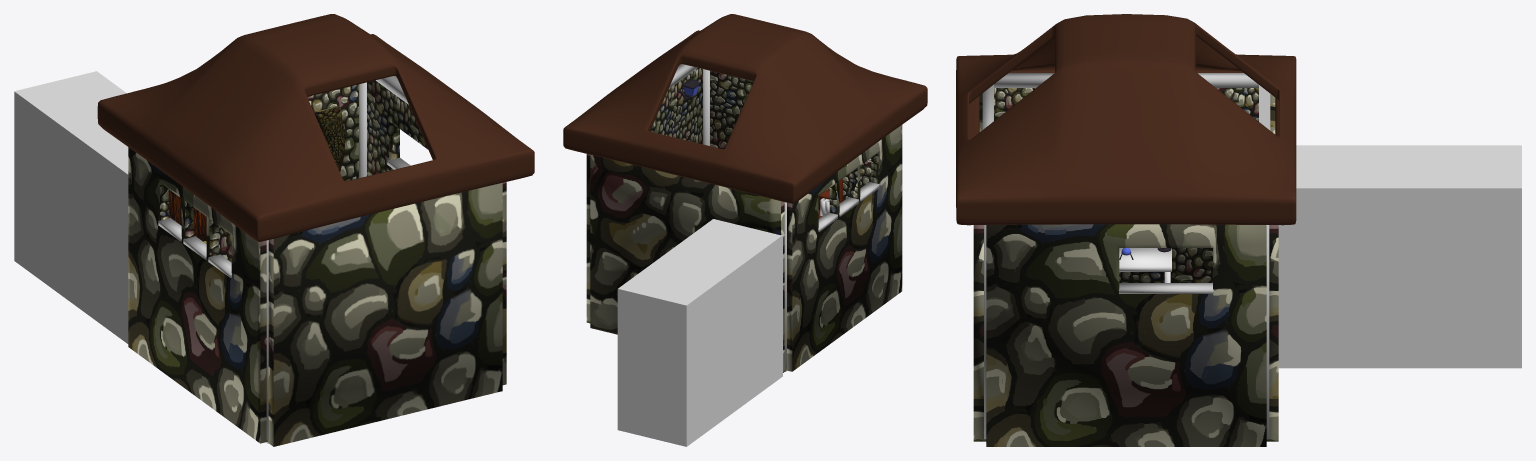
Rendered from WizradRoom.fbx.
The picture shows the model from 3 angles, left to right: view 1: azimuth 30°, elevation 25°; view 2: azimuth 150°, elevation 25°; view 3: azimuth 270°, elevation 25°; orthographic projection. The views are drawn at different scales.
Visible parts, largest first — view 1: Cube.018, Cube.001, Cube, Cube.017, Cube.003, Cube.002, Cube.012, Cube.019, Cube.005, Cube.007; view 2: Cube.018, Cube.017, Cube, Cube.002, Cube.003, Cube.001, Cube.004, Cube.006; view 3: Cube.018, Cube.003, Cube.017, Cube, Cube.001, Cube.002, Cube.008, TableTop, Cube.016, Cube.005, Cube.004.
Boxes of the visible parts, <box> form: Cube.018: <box>97,14,534,241</box>; Cube.001: <box>268,183,502,446</box>; Cube: <box>128,147,267,443</box>; Cube.017: <box>14,71,128,343</box>; Cube.003: <box>367,80,506,385</box>; Cube.002: <box>218,84,358,262</box>; Cube.012: <box>314,106,345,171</box>; Cube.019: <box>168,189,206,241</box>; Cube.005: <box>359,82,366,178</box>; Cube.007: <box>266,240,268,440</box>; Cube.018: <box>563,14,927,203</box>; Cube.017: <box>617,219,782,446</box>; Cube: <box>786,125,902,371</box>; Cube.002: <box>590,154,786,372</box>; Cube.003: <box>586,68,702,323</box>; Cube.001: <box>710,71,871,200</box>; Cube.004: <box>703,69,709,145</box>; Cube.006: <box>784,202,786,369</box>; Cube.018: <box>956,14,1296,225</box>; Cube.003: <box>986,224,1266,446</box>; Cube.017: <box>1278,145,1521,368</box>; Cube: <box>994,88,1258,282</box>; Cube.001: <box>973,93,986,441</box>; Cube.002: <box>1266,94,1278,441</box>; Cube.008: <box>994,73,1258,87</box>; TableTop: <box>1119,248,1171,271</box>; Cube.016: <box>1119,283,1213,293</box>; Cube.005: <box>1266,225,1269,439</box>; Cube.004: <box>984,225,986,439</box>.
Size of the model in its own units: 2427 by 2740 by 4035.
